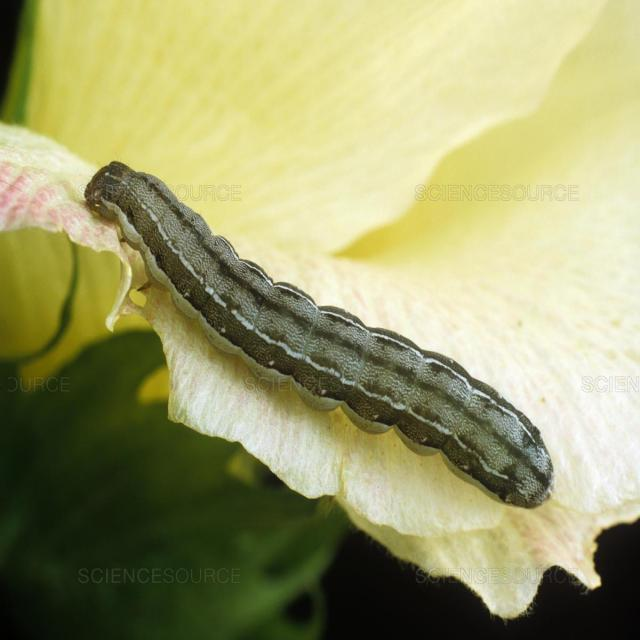BeetArmyWorm-Larva-: (82, 156, 557, 513)
